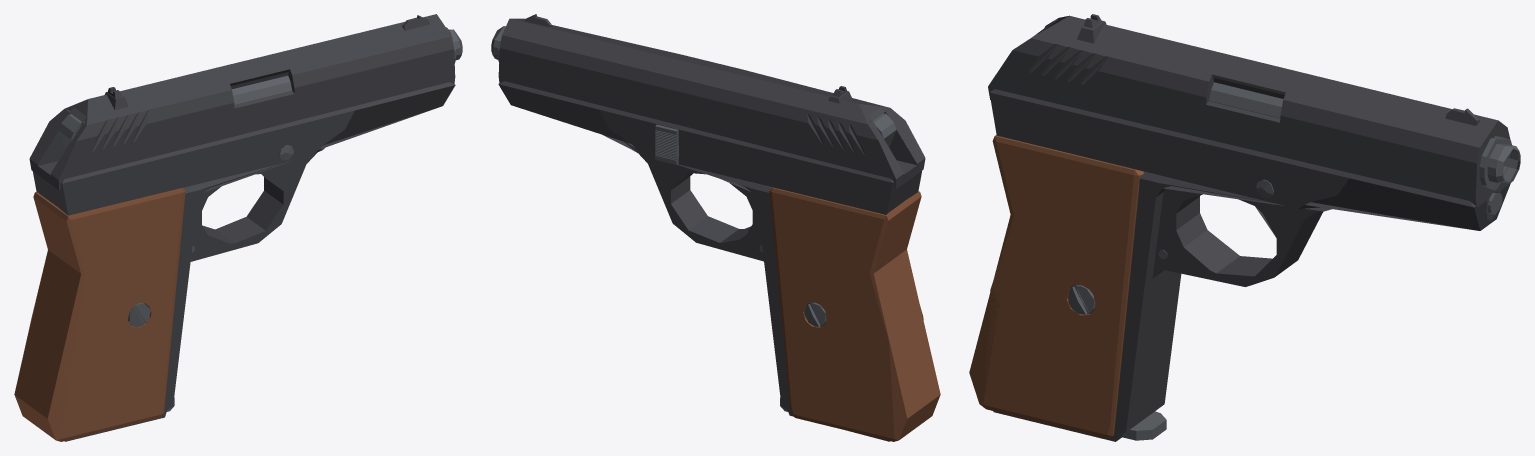
The model's file is gun.fbx.
The picture shows the model from 3 angles, left to right: view 1: azimuth 30°, elevation 25°; view 2: azimuth 150°, elevation 25°; view 3: azimuth 330°, elevation 25°; orthographic projection. The views are drawn at different scales.
Visible parts, largest first — view 1: Cylinder.004; view 2: Cylinder.004; view 3: Cylinder.004.
Part boxes in pixels (bbox=[...]): Cylinder.004: bbox=[14, 14, 462, 441]; Cylinder.004: bbox=[491, 14, 940, 441]; Cylinder.004: bbox=[969, 14, 1520, 441].
Bounding box in the file's own units: 286 × 210 × 42.26.
